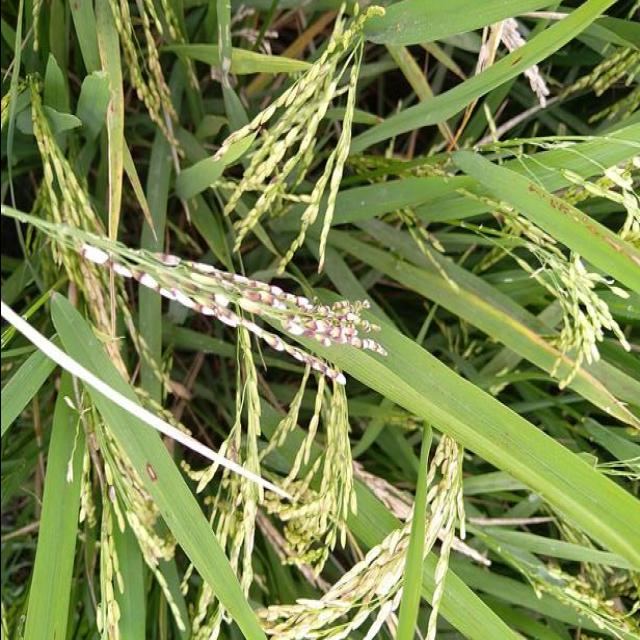Leaf Streak: (528, 186, 640, 276)
Panicle Blight: (79, 244, 345, 385), (150, 252, 383, 352), (132, 76, 163, 133), (223, 425, 237, 463), (105, 485, 114, 503), (208, 291, 219, 305), (138, 488, 151, 499)
